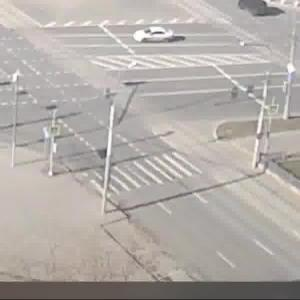car: (135, 26, 180, 48), (239, 1, 277, 24)
